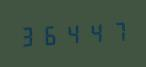four: (62, 20, 83, 46), (84, 19, 105, 45)
seven: (106, 18, 127, 44)
six: (40, 21, 61, 47)
three: (18, 22, 39, 48)
